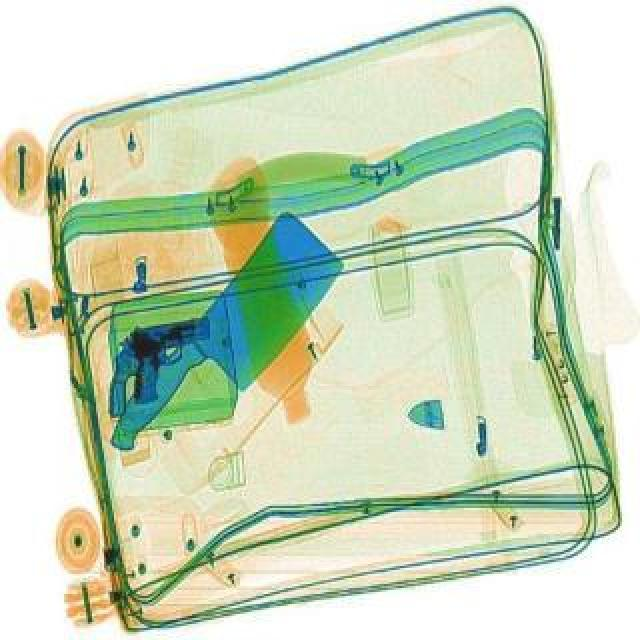gun: (94, 310, 224, 416), (120, 314, 222, 408)
knife: (88, 206, 360, 486)
